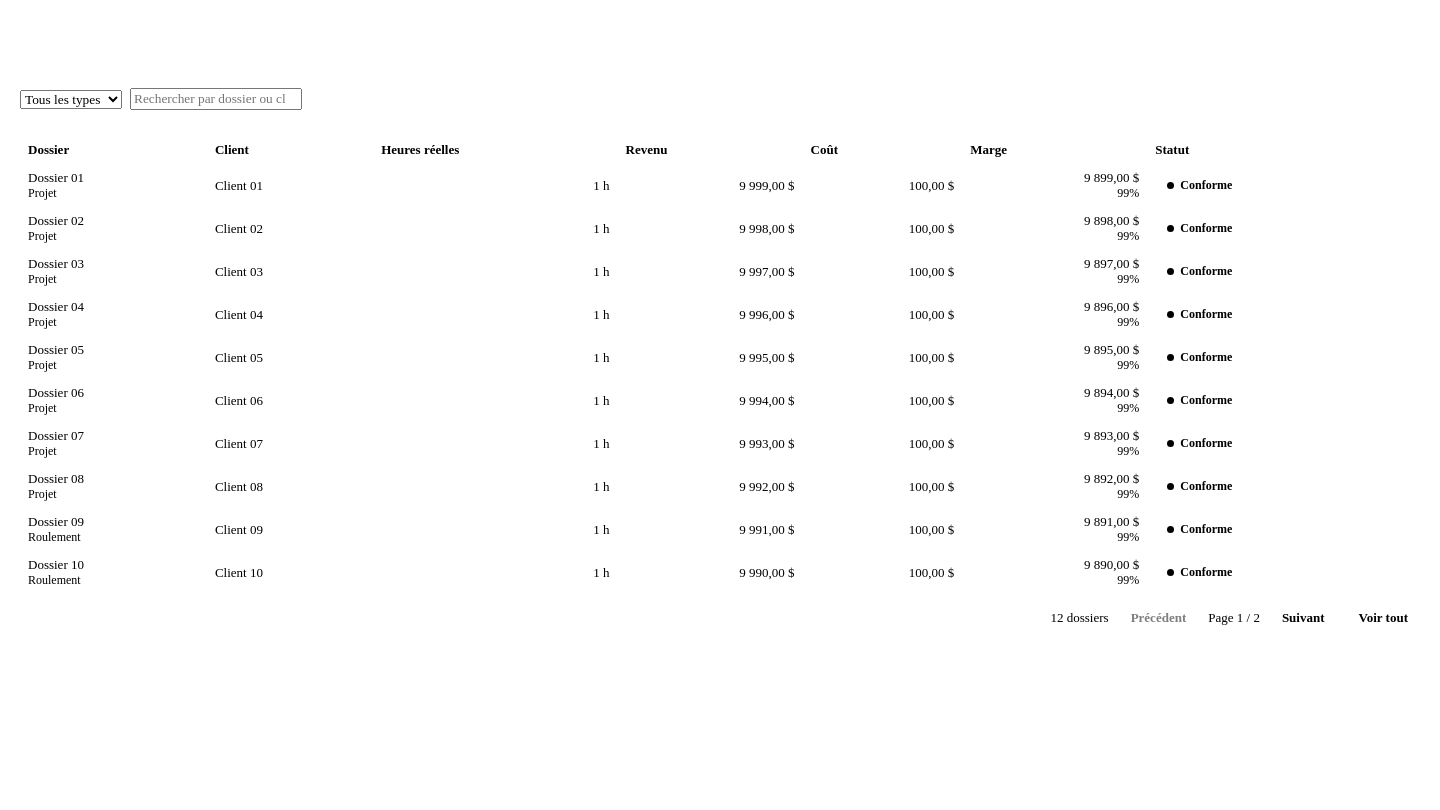
Test: ReportsPage — pagination, filtre par type, recherche du comparatif › le filtre par type réduit la liste (ex. Roulement seulement)
Expected: the text "Client 01" is shown, [207,164,373,207]
Select "Roulement" in the dropdown showing "Tous les types" at (71, 99), box [20,90,122,108]
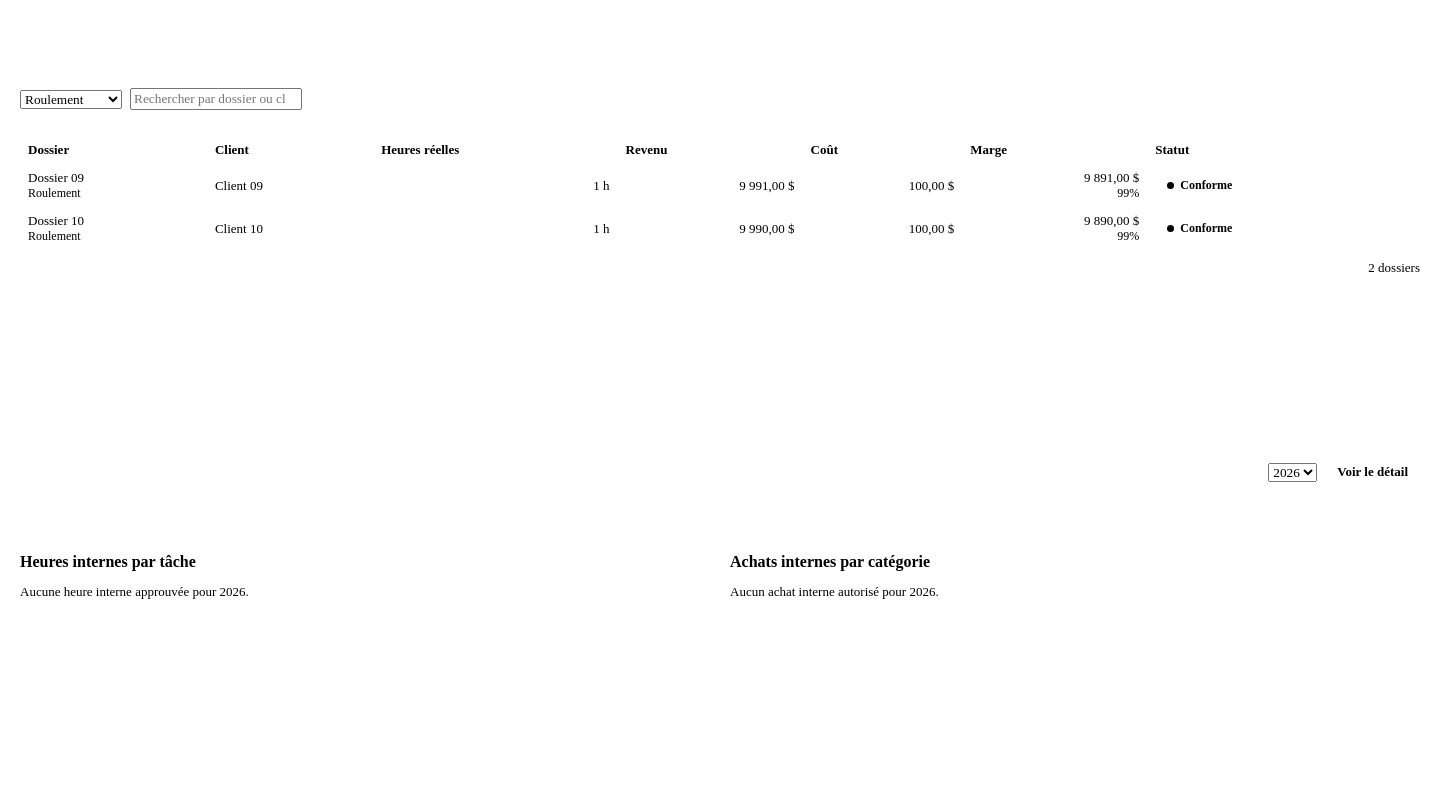
Expected: the text "Client 09" is shown, [207,164,373,207]
Result: the text "Client 01" is gone
